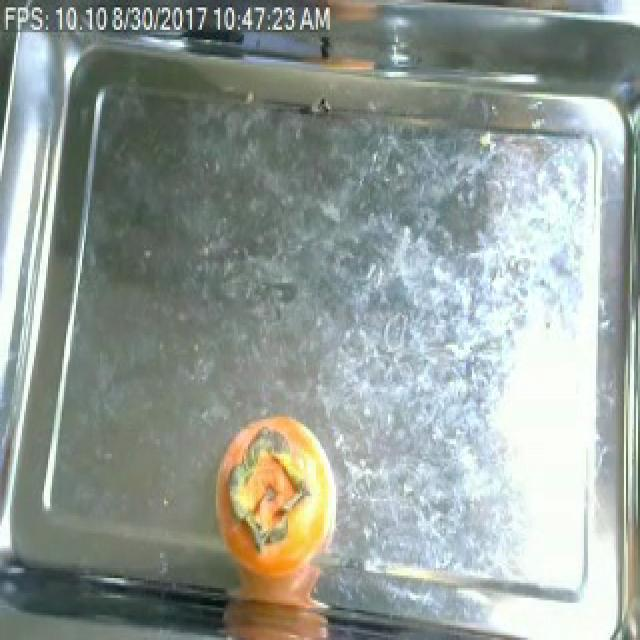Fruit: (200, 404, 344, 638), (306, 0, 388, 32)
